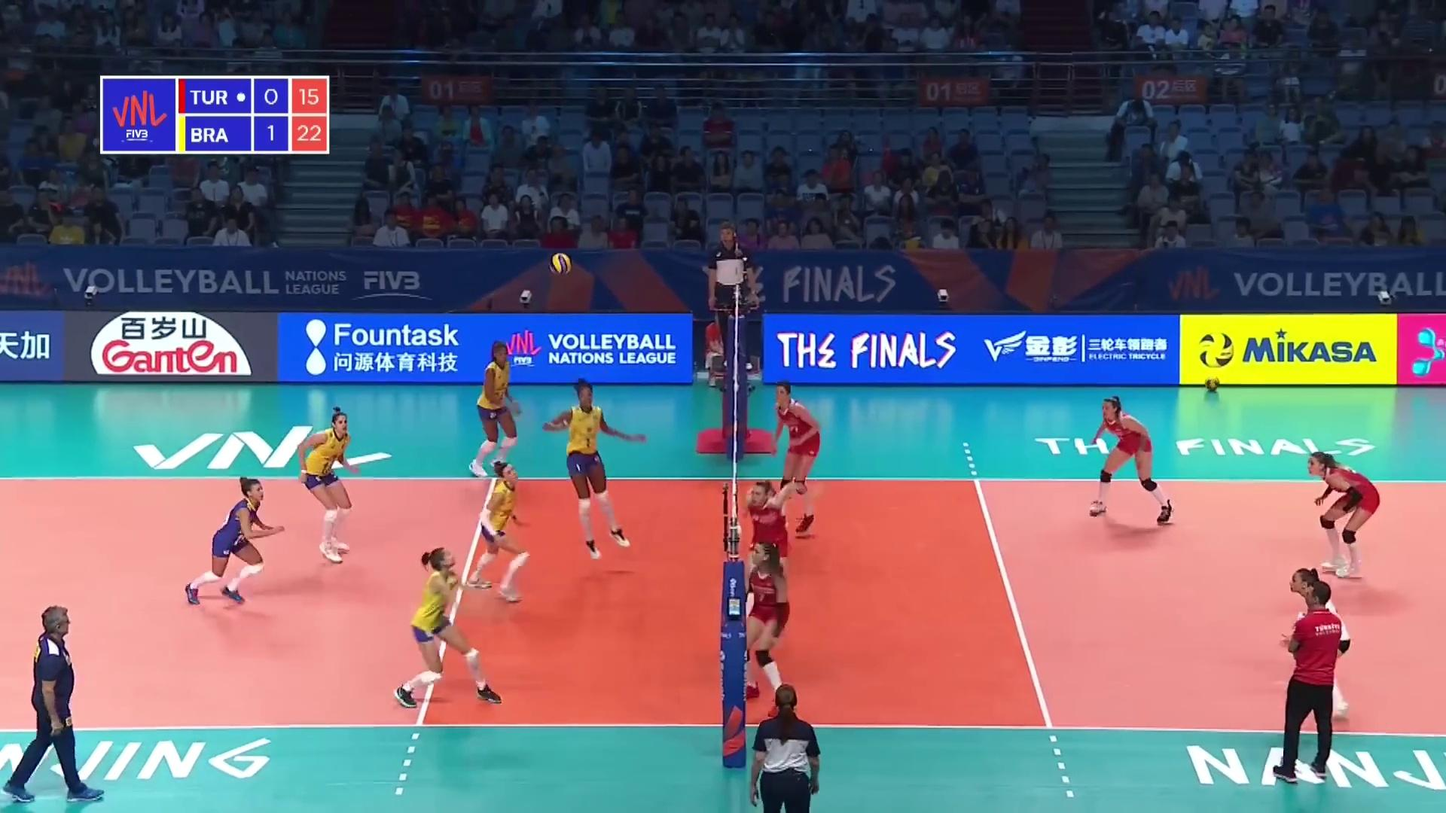player: (547, 381, 647, 558), (396, 547, 504, 705), (184, 479, 282, 606), (1088, 396, 1173, 525), (745, 478, 810, 643), (1283, 569, 1352, 718), (464, 462, 533, 601), (1309, 452, 1382, 580), (742, 544, 795, 717), (302, 409, 362, 560), (768, 380, 821, 533), (463, 342, 522, 477)
refree: (749, 680, 821, 813), (709, 224, 758, 367)
